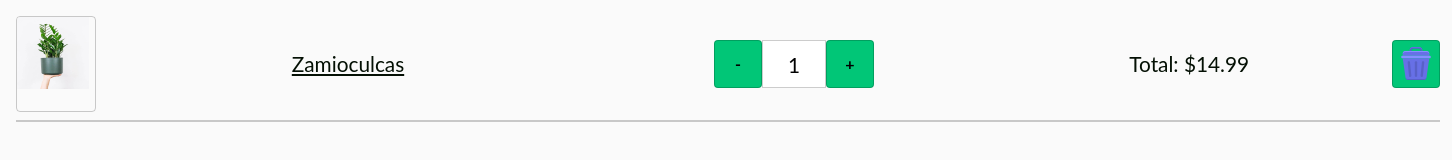
Test: test the Product component › changes product's quantity in the basket correctly
The width and height of the screenshot is (1452, 160).
Click the number field: (794, 64) [762,40,826,88]
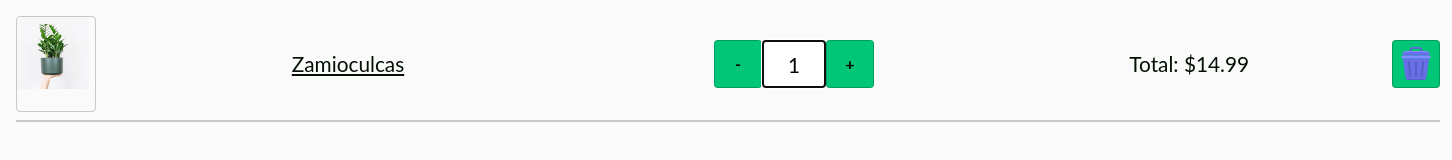
Type keys "2"
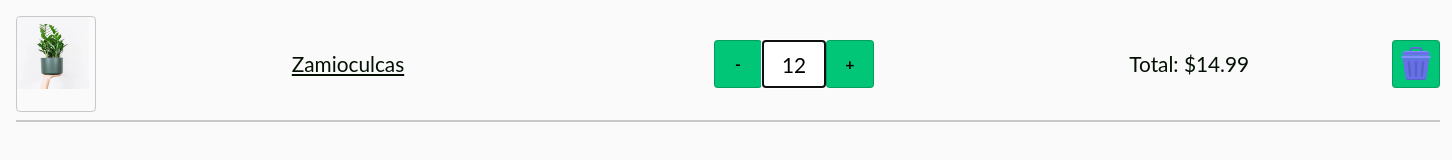
Expected: the number field holds "12", [762,40,826,88]
